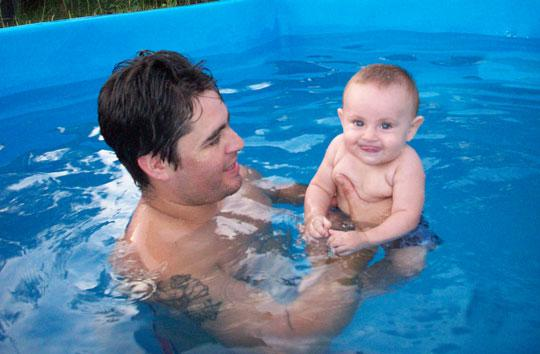swimmer: (90, 46, 338, 341), (304, 68, 433, 298)
